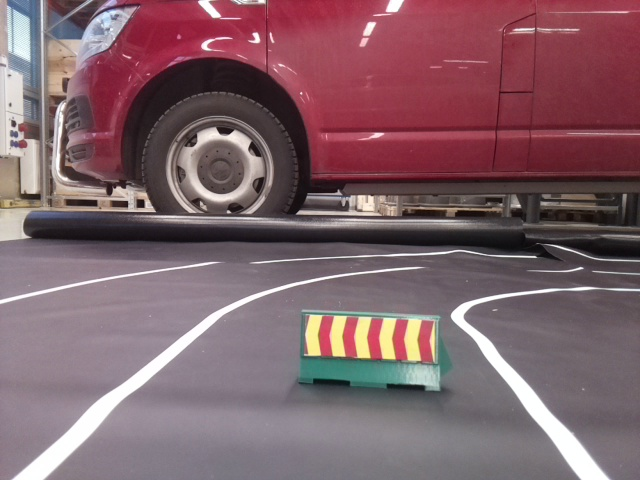ClosedRoadStand: (301, 309, 439, 384)
